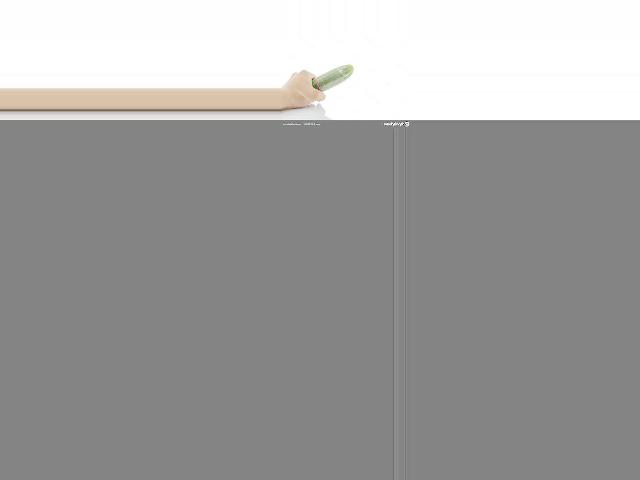cucumber: (311, 64, 353, 91)
